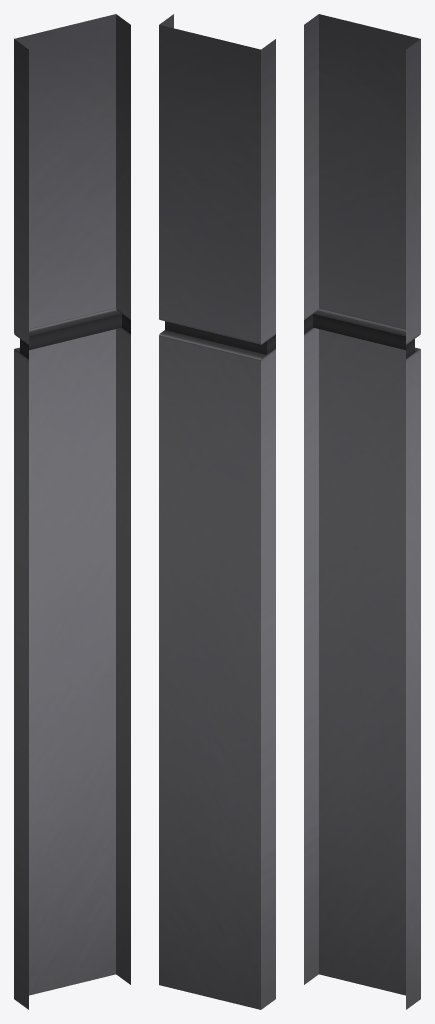
Rendered from EXT_MR_HB.fbx.
3 renders of one model, left to right at view 1: azimuth 30°, elevation 25°; view 2: azimuth 150°, elevation 25°; view 3: azimuth 330°, elevation 25°, orthographic.
Visible parts, largest first — view 1: EXT_MR_HB; view 2: EXT_MR_HB; view 3: EXT_MR_HB.
Boxes of the visible parts, x1,y1,x2,y2 form: EXT_MR_HB: (14,14,130,1009); EXT_MR_HB: (159,14,275,1009); EXT_MR_HB: (304,14,420,1009).
Bounding box in the file's own units: 0.5 × 4.5 × 0.125.
